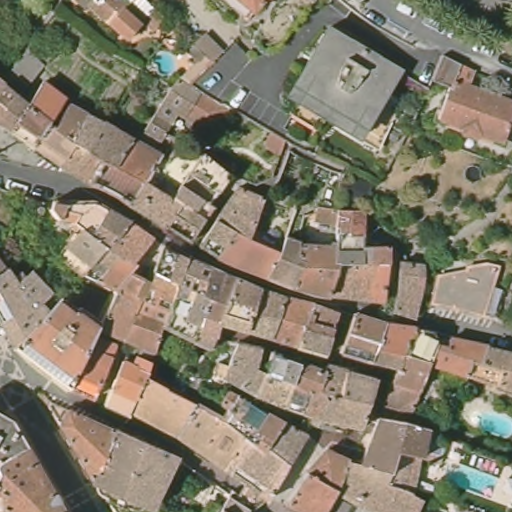pool: (441, 452, 503, 498), (473, 401, 512, 441), (149, 48, 184, 74)
